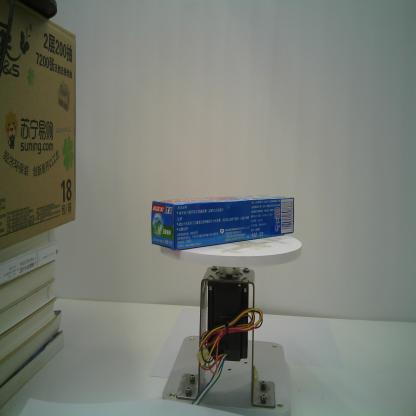Personal Hygiene: (150, 194, 295, 253)
